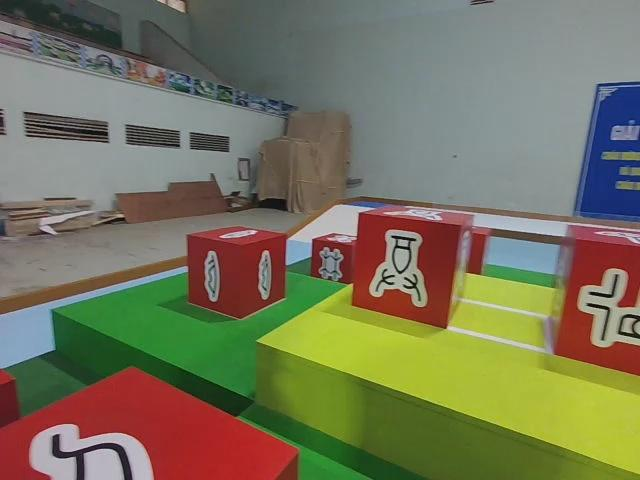R2 Real: (0, 360, 304, 480), (352, 207, 473, 328), (547, 223, 640, 377), (188, 227, 287, 317), (313, 233, 359, 284)
